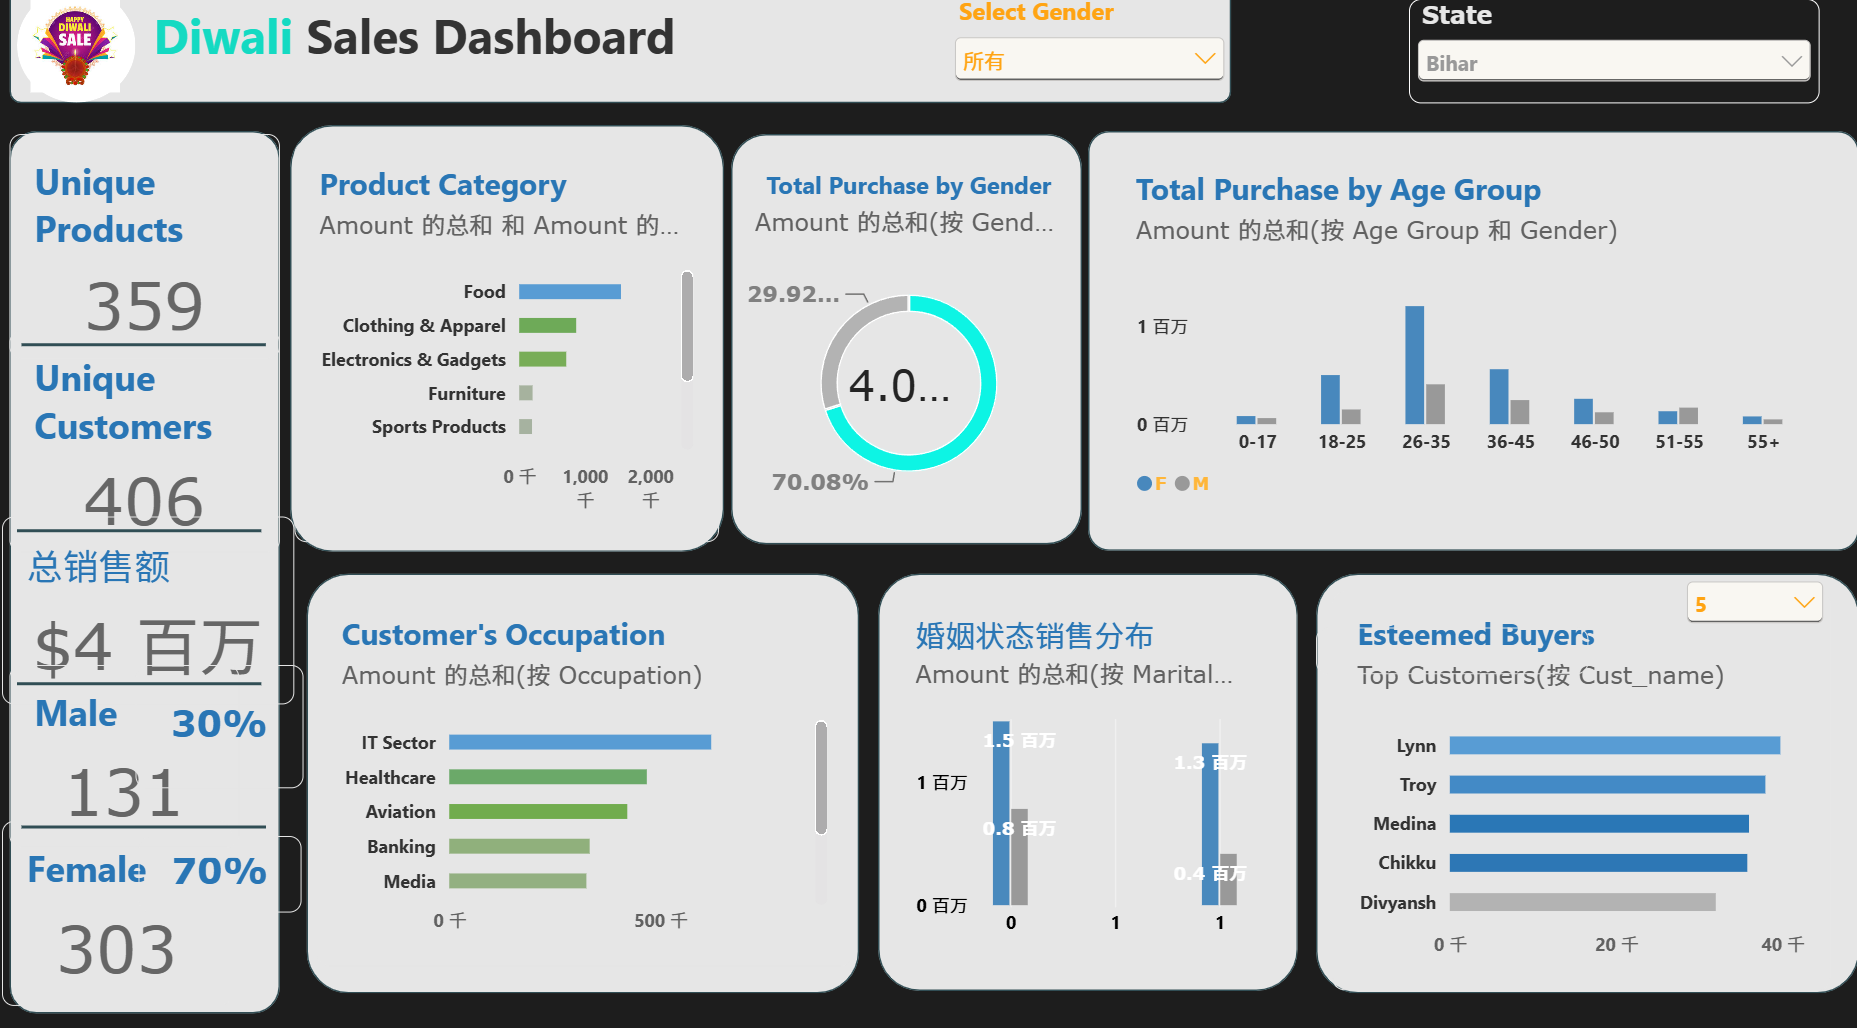

The page's visual inventory and layout, read from the dashboard file:
{"tool":"powerbi","page":{"name":"品类分析","canvas":[1280,720],"ordinal":2},"visuals":[{"type":"shape","box":[27,8,819.2,77.9],"z":0},{"type":"shape","box":[27,105,181.3,591.7],"z":1000},{"type":"shape","box":[214.7,100.2,291.1,286.3],"z":2000},{"type":"shape","box":[225.9,400.8,370.6,281.5],"z":3000},{"type":"shape","box":[750.8,105,516.9,281.5],"z":4000},{"type":"shape","box":[609.2,400.8,281.5,279.9],"z":5000},{"type":"shape","box":[903.5,400.8,364.2,281.5],"z":6000},{"type":"textbox","box":[124.2,17.7,429,62.9],"z":7000},{"type":"slicer","fields":{"Values":["Diwali Sales Data.Gender"]},"box":[655.3,12.7,190.9,66.8],"z":8000},{"type":"slicer","fields":{"Values":["Diwali Sales Data.State"]},"box":[965.5,15.9,275.2,70],"z":9000},{"type":"card","title":"Unique Products","fields":{"Values":["Count(Diwali Sales Data.Product_ID)"]},"box":[27,119.3,181.3,114.5],"z":10000},{"type":"card","title":"Unique Customers","fields":{"Values":["All Measure.Total Customers"]},"box":[27,248.1,181.3,116.1],"z":11000},{"type":"card","title":"总销售额","fields":{"Values":["All Measure.TotalSales"]},"box":[31.8,373.8,146.3,101.8],"z":12000},{"type":"card","title":"Male","fields":{"Values":["All Measure.Male"]},"box":[31.8,480.4,154.3,84.3],"z":13000},{"type":"card","title":"Female","fields":{"Values":["All Measure.Female"]},"box":[31.8,582.2,154.3,98.6],"z":14000},{"type":"card","fields":{"Values":["All Measure.% Male"]},"box":[111.3,462.9,112.9,82.7],"z":15000},{"type":"card","fields":{"Values":["All Measure.% Female"]},"box":[124.1,577.4,87.5,50.9],"z":16000},{"type":"barChart","title":"Product Category","fields":{"Category":["Diwali Sales Data.Product_Category"],"Y":["Sum(Diwali Sales Data.Amount)"]},"box":[217.9,111.3,284.7,268.8],"z":17000},{"type":"clusteredColumnChart","title":"Total Purchase by Age Group","fields":{"Category":["Diwali Sales Data.Age Group"],"Y":["Sum(Diwali Sales Data.Amount)"],"Series":["Diwali Sales Data.Gender"]},"box":[766.7,116.1,489.9,254.5],"z":18000},{"type":"clusteredColumnChart","title":"婚姻状态销售分布","fields":{"Category":["Diwali Sales Data.Marital_Status"],"Y":["Sum(Diwali Sales Data.Amount)"],"Series":["Diwali Sales Data.Gender"]},"box":[618.7,413.6,254.5,251.3],"z":19000},{"type":"clusteredBarChart","title":"Customer''s Occupation","fields":{"Category":["Diwali Sales Data.Occupation"],"Y":["Sum(Diwali Sales Data.Amount)"]},"box":[233.8,413.6,359.5,251.3],"z":20000},{"type":"clusteredBarChart","title":"Esteemed Buyers","fields":{"Category":["Diwali Sales Data.Cust_name"],"Y":["All Measure.Top Customers"]},"box":[914.6,413.6,334,267.2],"z":21000},{"type":"slicer","fields":{"Values":["Dynamic Customers.Dynamic Customers"]},"box":[1146.8,400.8,101.8,46.1],"z":22000},{"type":"card","fields":{"Values":["All Measure.TopCustomersTitle"]},"box":[903.5,437.4,182.9,25.4],"z":22001},{"type":"shape","box":[510.6,106.6,235.4,275.2],"z":22002},{"type":"donutChart","title":"Total Purchase by Gender","fields":{"Category":["Diwali Sales Data.Gender"],"Y":["Sum(Diwali Sales Data.Amount)"]},"box":[510.6,116.1,238.6,259.3],"z":22003},{"type":"shape","box":[35,238.6,163.8,19.1],"z":22004},{"type":"shape","box":[31.8,362.7,163.8,19.1],"z":22005},{"type":"shape","box":[31.8,466,163.8,19.1],"z":22006},{"type":"shape","box":[35,567.8,163.8,19.1],"z":22007},{"type":"shape","box":[32,9.5,79.5,76.5],"z":22008},{"type":"image","box":[41.5,16,60,62.5],"z":22009}]}

Visuals, with their boxes in screenshot pixels (x1, y1, x2, y2), scaled from the page's 1280x720 canvas onto the 1857x1028 screenshot:
shape: [39,11,1228,123]
shape: [39,150,302,995]
shape: [311,143,734,552]
shape: [328,572,865,974]
shape: [1089,150,1839,552]
shape: [884,572,1292,972]
shape: [1311,572,1839,974]
textbox: [180,25,803,115]
slicer - Diwali Sales Data.Gender: [951,18,1228,114]
slicer - Diwali Sales Data.State: [1401,23,1800,123]
"Unique Products" card: [39,170,302,334]
"Unique Customers" card: [39,354,302,520]
"总销售额" card: [46,534,258,679]
"Male" card: [46,686,270,806]
"Female" card: [46,831,270,972]
card - All Measure.% Male: [161,661,325,779]
card - All Measure.% Female: [180,824,307,897]
"Product Category" barChart: [316,159,729,543]
"Total Purchase by Age Group" clusteredColumnChart: [1112,166,1823,529]
"婚姻状态销售分布" clusteredColumnChart: [898,591,1267,949]
"Customer''s Occupation" clusteredBarChart: [339,591,861,949]
"Esteemed Buyers" clusteredBarChart: [1327,591,1811,972]
slicer - Dynamic Customers.Dynamic Customers: [1664,572,1811,638]
card - All Measure.TopCustomersTitle: [1311,625,1576,661]
shape: [741,152,1082,545]
"Total Purchase by Gender" donutChart: [741,166,1087,536]
shape: [51,341,288,368]
shape: [46,518,284,545]
shape: [46,665,284,693]
shape: [51,811,288,838]
shape: [46,14,162,123]
image: [60,23,147,112]
